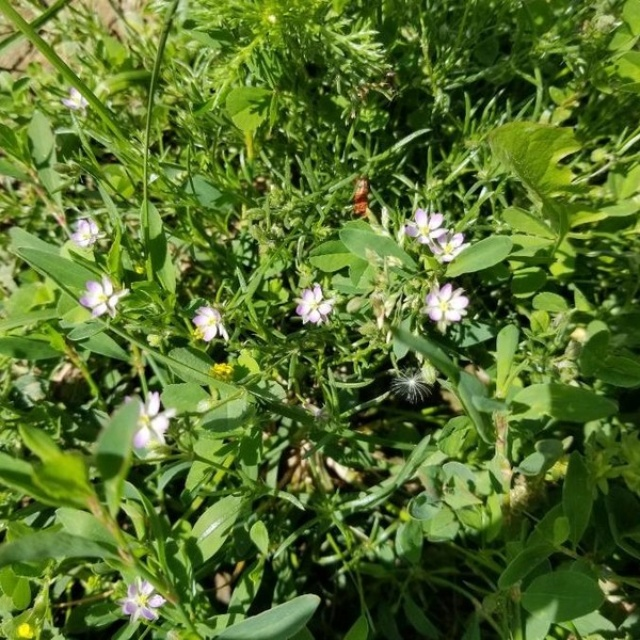obstacle: (58, 90, 561, 587)
